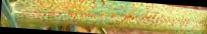Wheat: (29, 0, 104, 23), (108, 3, 144, 26)
